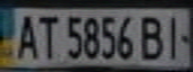5: (60, 11, 84, 60), (100, 12, 121, 61)
6: (115, 12, 139, 61)
8: (81, 12, 103, 61)
A: (9, 10, 42, 61)
B: (136, 11, 166, 61)
I: (160, 11, 190, 60)
T: (33, 11, 60, 60)
